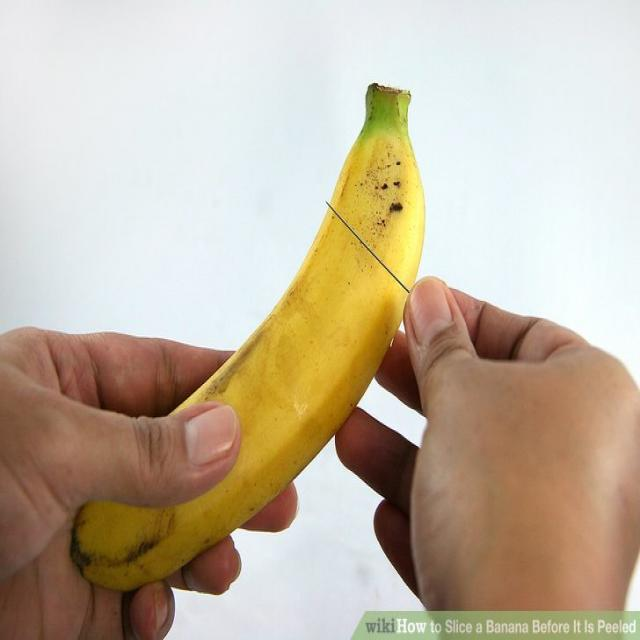banana: (77, 76, 420, 588)
hand: (334, 265, 640, 640), (0, 314, 307, 640)
